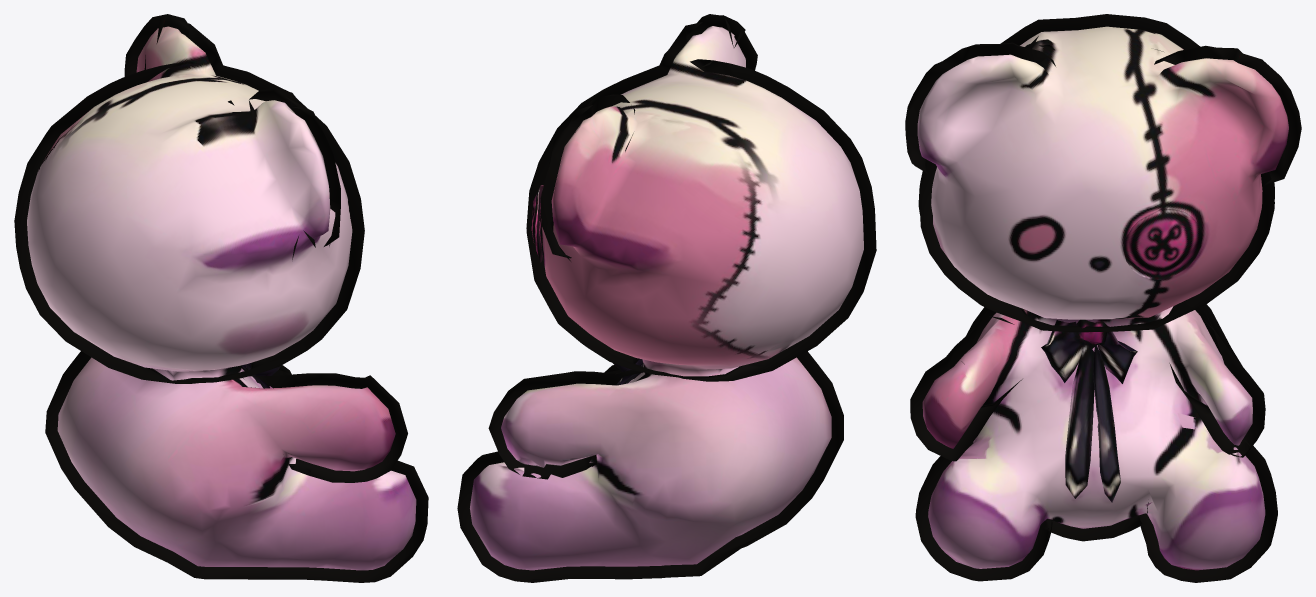
File: bear-d6-v13p8.glb
3 views of the same model, side by side, from view 1: azimuth 30°, elevation 25°; view 2: azimuth 150°, elevation 25°; view 3: azimuth 270°, elevation 25° (orthographic).
Visible parts, largest first — view 1: Bear_D6_v13p8_web; view 2: Bear_D6_v13p8_web; view 3: Bear_D6_v13p8_web.
Boxes of the visible parts, left/top/right/bottom form: Bear_D6_v13p8_web: left=14, top=14, right=428, bottom=582; Bear_D6_v13p8_web: left=457, top=14, right=876, bottom=582; Bear_D6_v13p8_web: left=905, top=14, right=1301, bottom=582.
Bounding box in the file's own units: 0.2154 × 0.3113 × 0.2241.
1 material, 1 textured.
